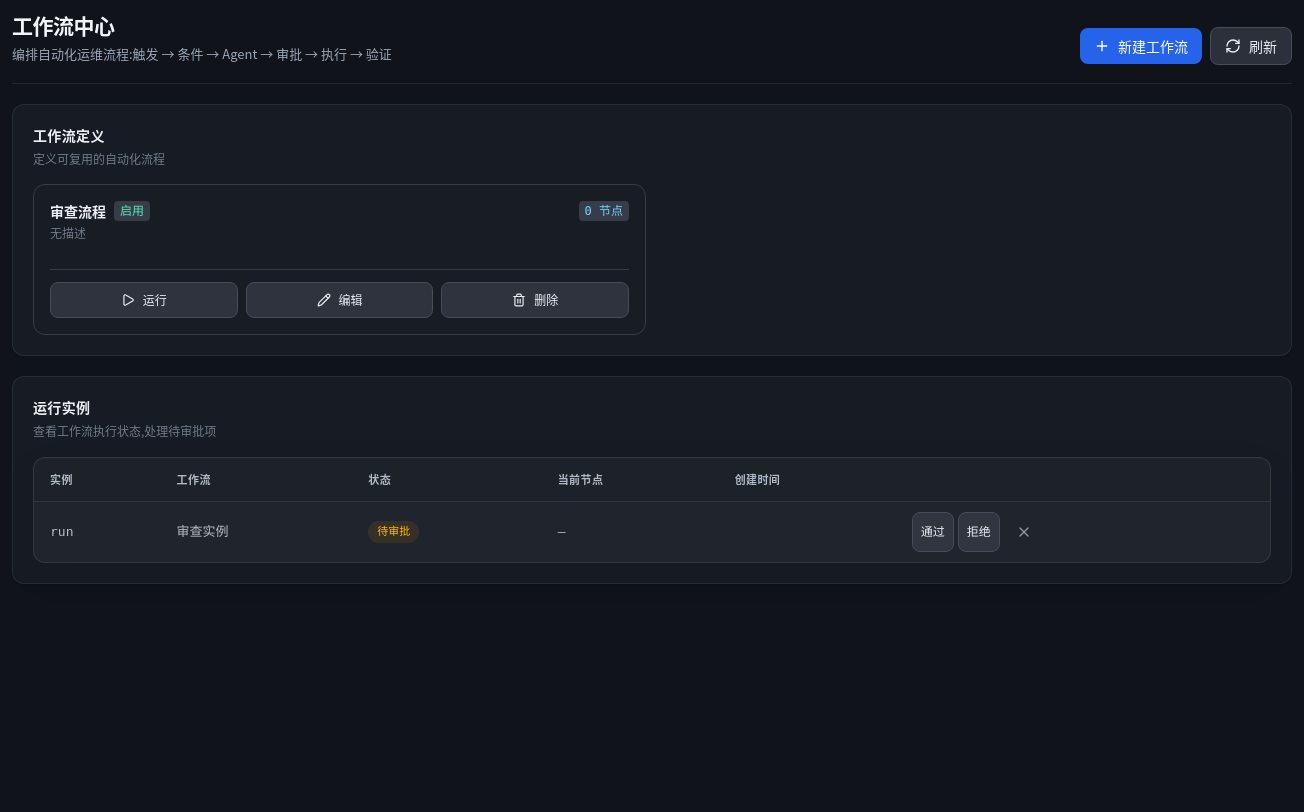
Test: 点击刷新获取服务端最新定义和实例
The image size is (1304, 812).
Click the button "刷新" at (1251, 46), box [1210,27,1292,65]
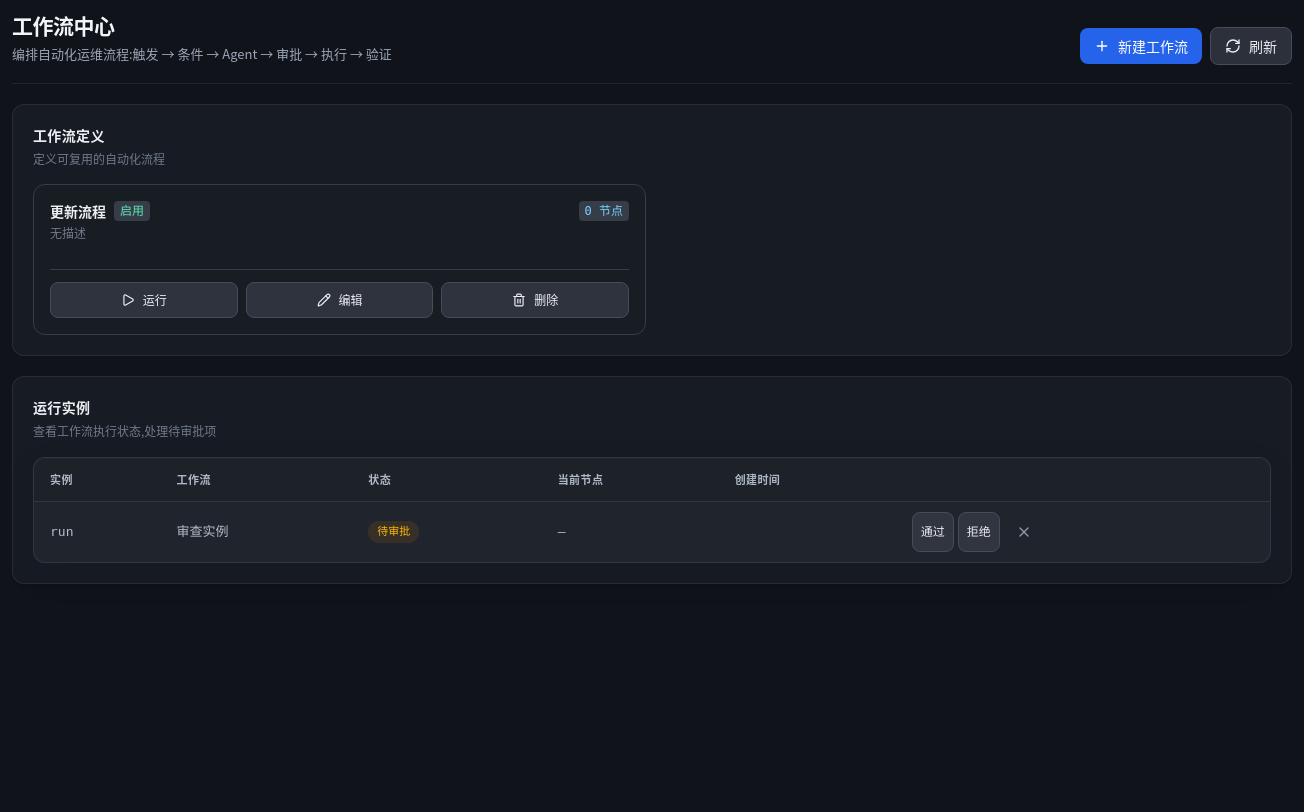
Result: the text "更新流程" is shown at [50,201,106,221]
